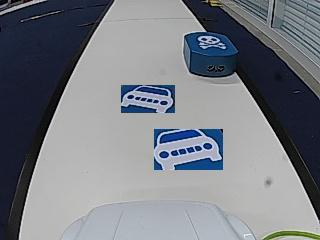danger: (197, 34, 225, 49)
